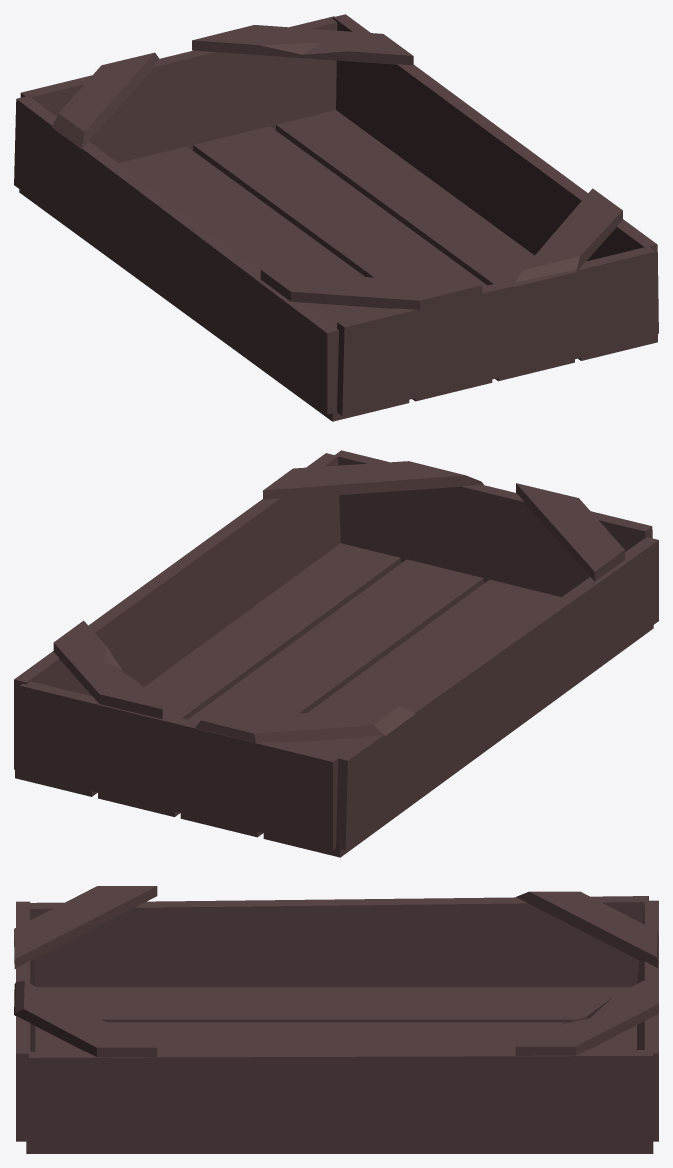
The model's file is prop_14.FBX.
3 renders of one model, top to bottom at view 1: azimuth 30°, elevation 25°; view 2: azimuth 150°, elevation 25°; view 3: azimuth 270°, elevation 25°, orthographic.
Visible parts, largest first — view 1: prop_14; view 2: prop_14; view 3: prop_14.
Part boxes in pixels (left/top/right/bottom): prop_14: left=14, top=14, right=658, bottom=421; prop_14: left=14, top=450, right=658, bottom=857; prop_14: left=14, top=886, right=658, bottom=1153.
Bounding box in the file's own units: 28.11 × 8.66 × 47.16.
